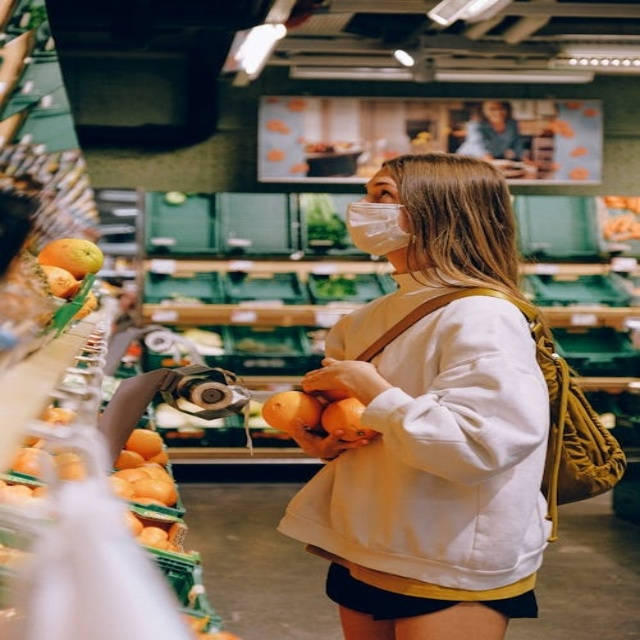Mascara: (345, 201, 414, 256)
Sin_gafas: (353, 177, 398, 202)
Sin_guantes: (303, 356, 390, 404), (282, 422, 372, 463)
